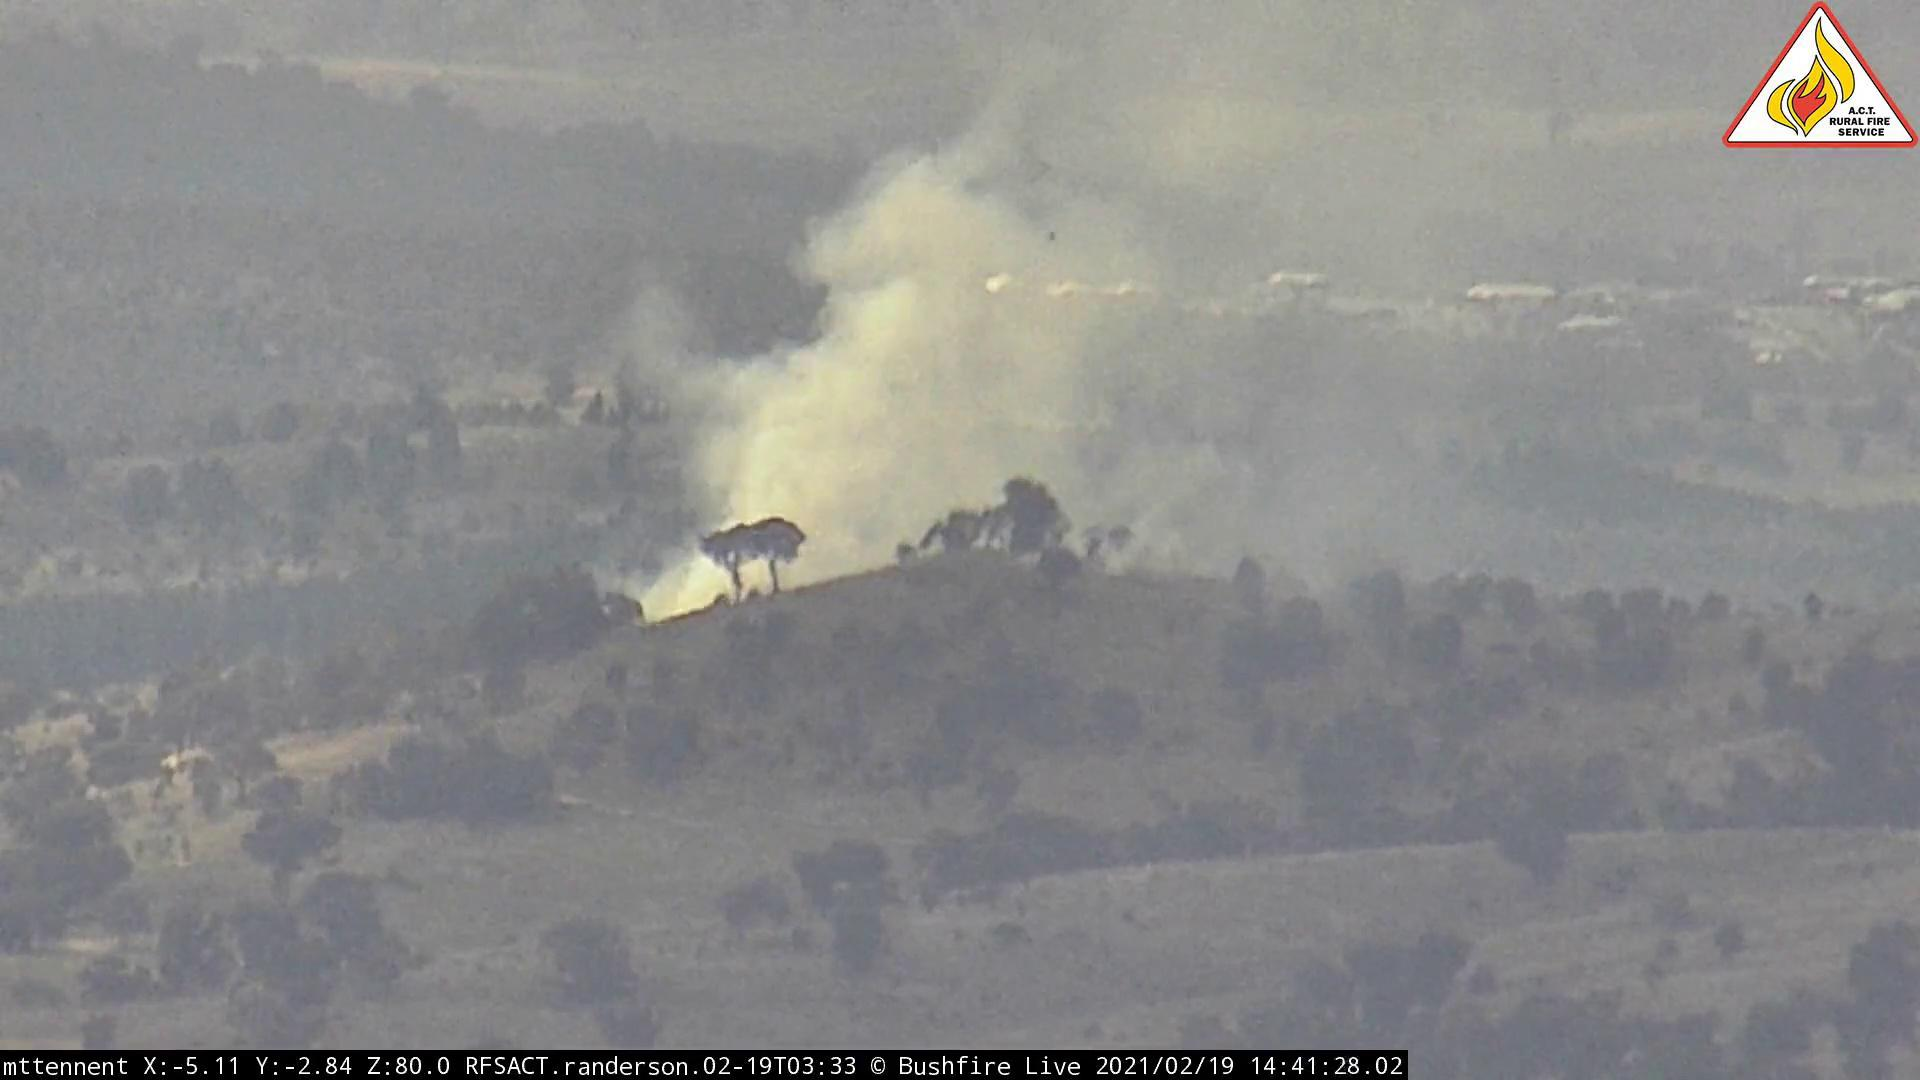Smoke: (608, 140, 1294, 633)
